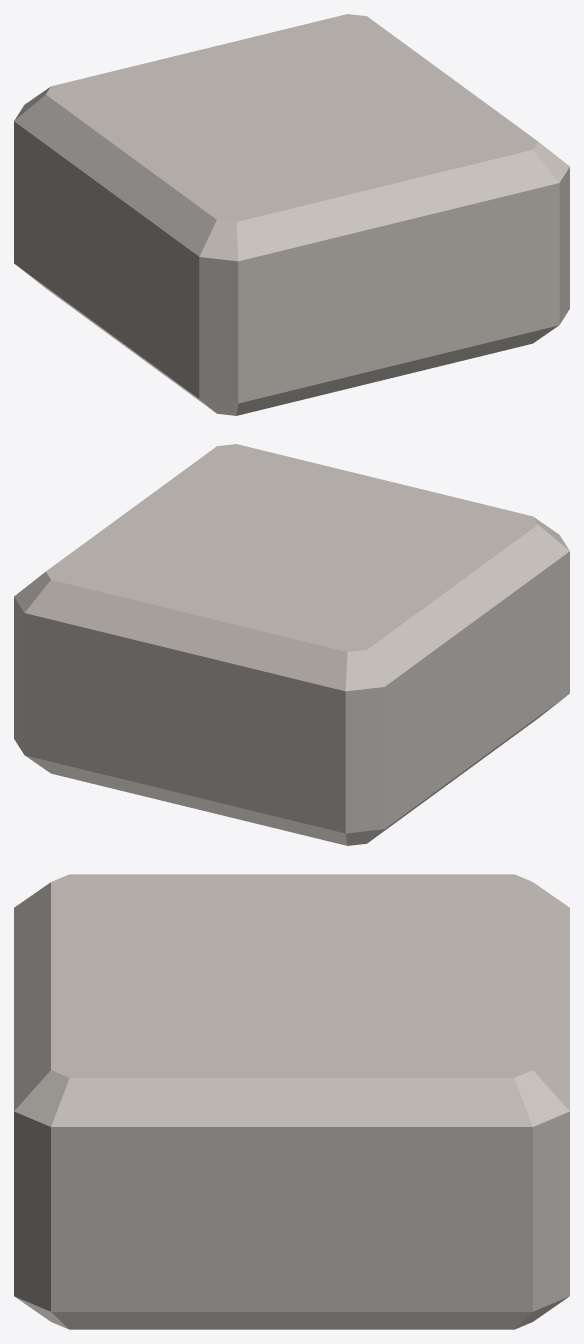
Rendered from mobile.glb.
3 renders of one model, top to bottom at view 1: azimuth 30°, elevation 25°; view 2: azimuth 150°, elevation 25°; view 3: azimuth 270°, elevation 25°, orthographic. The views are drawn at different scales.
Size of the model in its own units: 0.18 by 0.09 by 0.18.
1 material, 1 textured.
